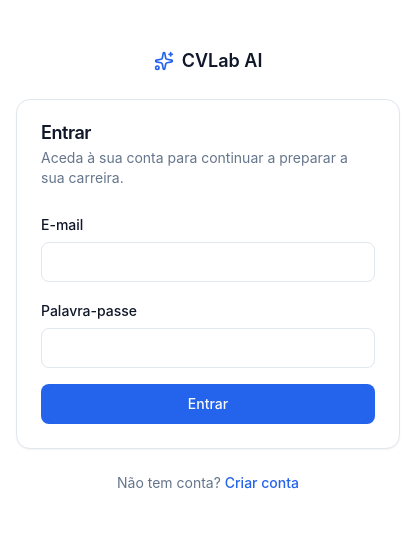
Test: LoginPage form validation › shows the server error message when login fails
In the field labelled "E-mail": (208, 262) [41,242,375,282], type "user@example.com"
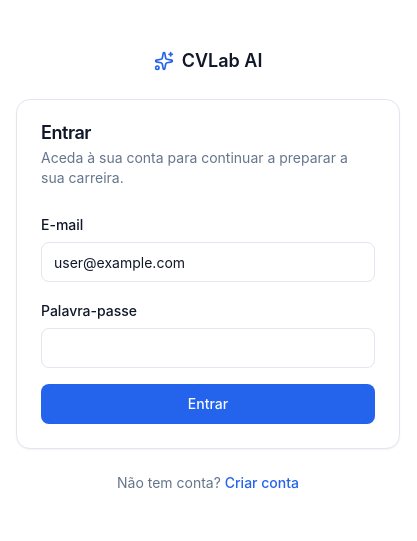
In the password field labelled "Palavra-passe": (208, 348) [41,328,375,368], type "wrong-password"
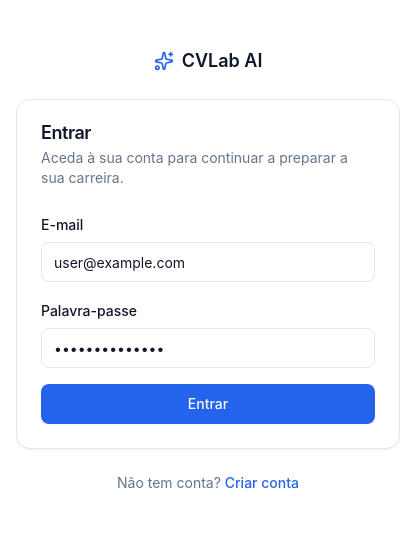
Click the button "Entrar": click(208, 404) [41,384,375,424]
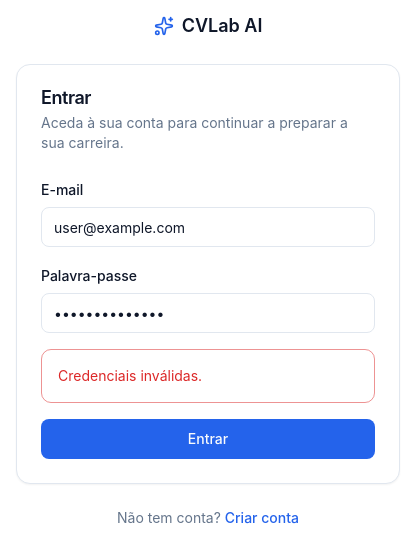
Expected: the text "Credenciais inválidas." is shown, [58,367,202,384]
